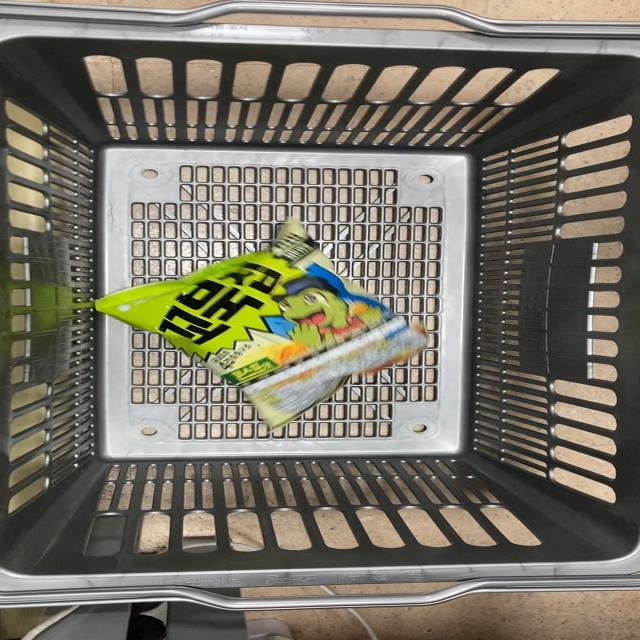ggobukchip: (68, 222, 438, 408)
